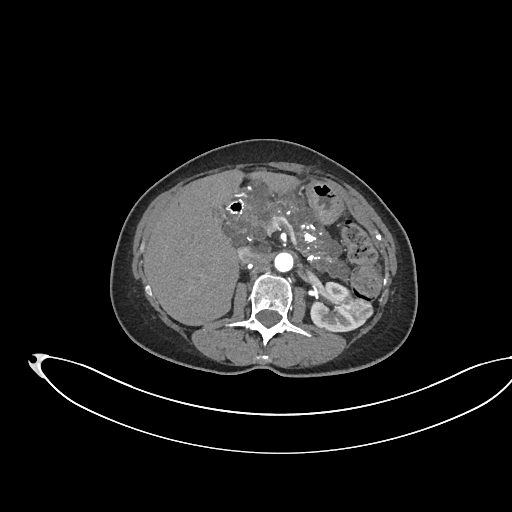Lesion: (342, 298, 375, 324)
